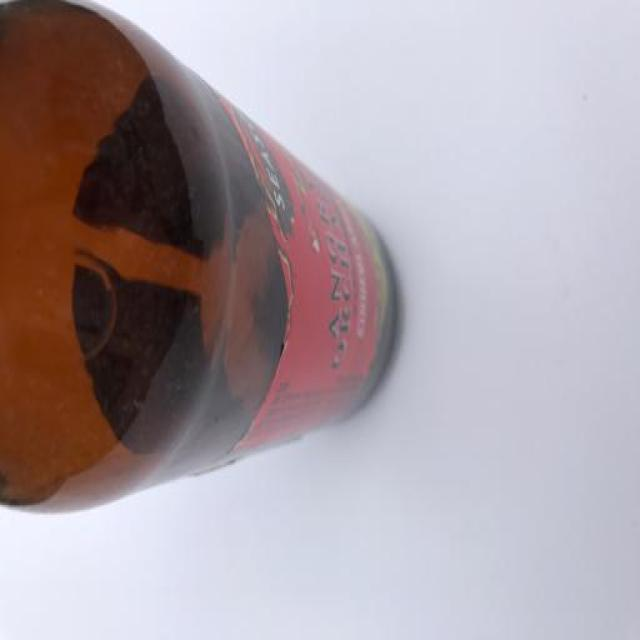Glass: (0, 1, 426, 552)
